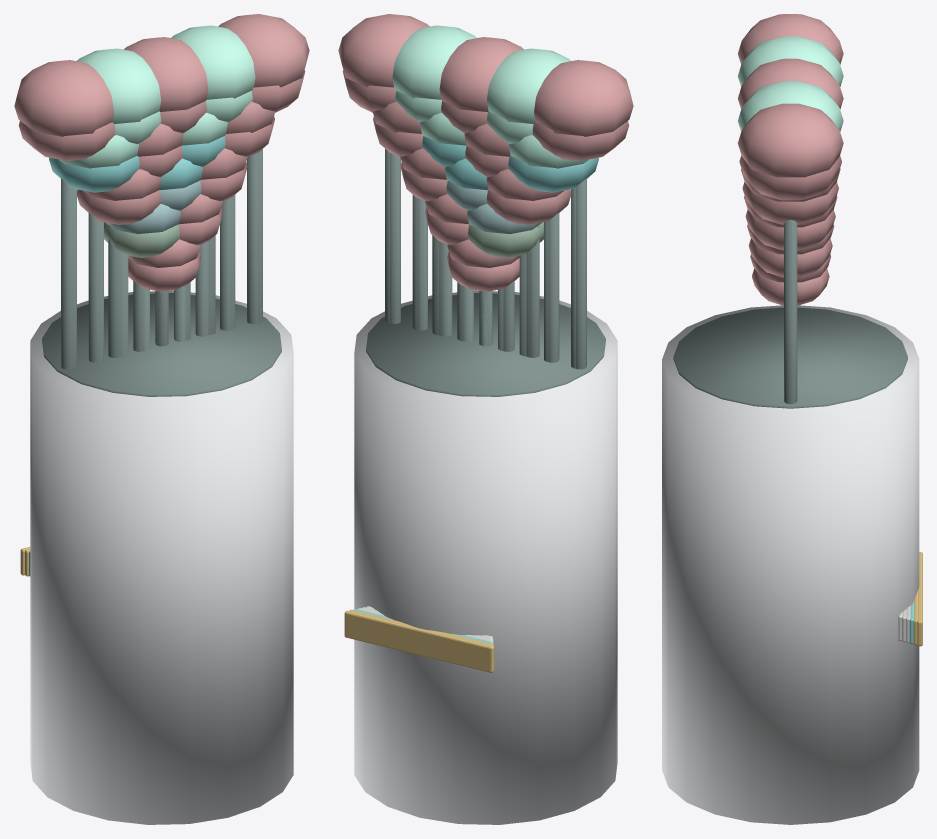
The model's file is Gear14.fbx.
The picture shows the model from 3 angles, left to right: view 1: azimuth 30°, elevation 25°; view 2: azimuth 150°, elevation 25°; view 3: azimuth 270°, elevation 25°; orthographic projection. The views are drawn at different scales.
Parts seen in each view (by area): view 1: Gear14_V10_Platinum, Gear14_V10_Ink, Gear14_V10_Rose, Gear14_V10_Glow, Gear14_V9_Rose, Gear14_V9_Ink, Gear14_V8_Ink, Gear14_V7_Aqua, Gear14_V5_Rose, Gear14_V7_Ink, Gear14_V8_Glow, Gear14_V6_Rose (+14 smaller); view 2: Gear14_V10_Platinum, Gear14_V10_Ink, Gear14_V10_Rose, Gear14_V10_Glow, Gear14_V10_Gold, Gear14_V9_Rose, Gear14_V9_Ink, Gear14_V8_Ink, Gear14_V7_Aqua, Gear14_V5_Rose, Gear14_V7_Ink, Gear14_V8_Glow (+15 smaller); view 3: Gear14_V10_Platinum, Gear14_V10_Ink, Gear14_V10_Rose, Gear14_V10_Glow, Gear14_V9_Rose, Gear14_V7_Rose, Gear14_V5_Rose, Gear14_V3_Rose, Gear14_V1_Rose, Gear14_V2_Rose.
Boxes of the visible parts, <box> form: Gear14_V10_Platinum: <box>30,290,293,824</box>; Gear14_V10_Ink: <box>42,149,281,396</box>; Gear14_V10_Rose: <box>14,14,309,136</box>; Gear14_V10_Glow: <box>77,25,255,123</box>; Gear14_V9_Rose: <box>18,70,305,160</box>; Gear14_V9_Ink: <box>72,153,257,368</box>; Gear14_V8_Ink: <box>88,195,235,362</box>; Gear14_V7_Aqua: <box>49,136,225,192</box>; Gear14_V5_Rose: <box>77,162,247,224</box>; Gear14_V7_Ink: <box>99,198,230,361</box>; Gear14_V8_Glow: <box>59,112,227,168</box>; Gear14_V6_Rose: <box>84,148,247,200</box>; Gear14_V10_Platinum: <box>354,290,617,824</box>; Gear14_V10_Ink: <box>366,149,605,396</box>; Gear14_V10_Rose: <box>338,14,633,136</box>; Gear14_V10_Glow: <box>392,25,570,123</box>; Gear14_V10_Gold: <box>344,610,494,672</box>; Gear14_V9_Rose: <box>342,70,629,160</box>; Gear14_V9_Ink: <box>390,153,575,368</box>; Gear14_V8_Ink: <box>412,195,559,362</box>; Gear14_V7_Aqua: <box>422,136,598,192</box>; Gear14_V5_Rose: <box>400,162,570,224</box>; Gear14_V7_Ink: <box>417,198,548,361</box>; Gear14_V8_Glow: <box>420,112,588,168</box>; Gear14_V10_Platinum: <box>662,305,919,824</box>; Gear14_V10_Ink: <box>673,219,907,408</box>; Gear14_V10_Rose: <box>737,14,843,177</box>; Gear14_V10_Glow: <box>738,36,843,131</box>; Gear14_V9_Rose: <box>739,155,841,200</box>; Gear14_V7_Rose: <box>742,182,838,224</box>; Gear14_V5_Rose: <box>745,209,835,250</box>; Gear14_V3_Rose: <box>748,238,832,277</box>; Gear14_V1_Rose: <box>752,268,829,305</box>; Gear14_V2_Rose: <box>750,254,830,282</box>.
Bounding box in the file's own units: 56.19 × 140 × 46.88.
